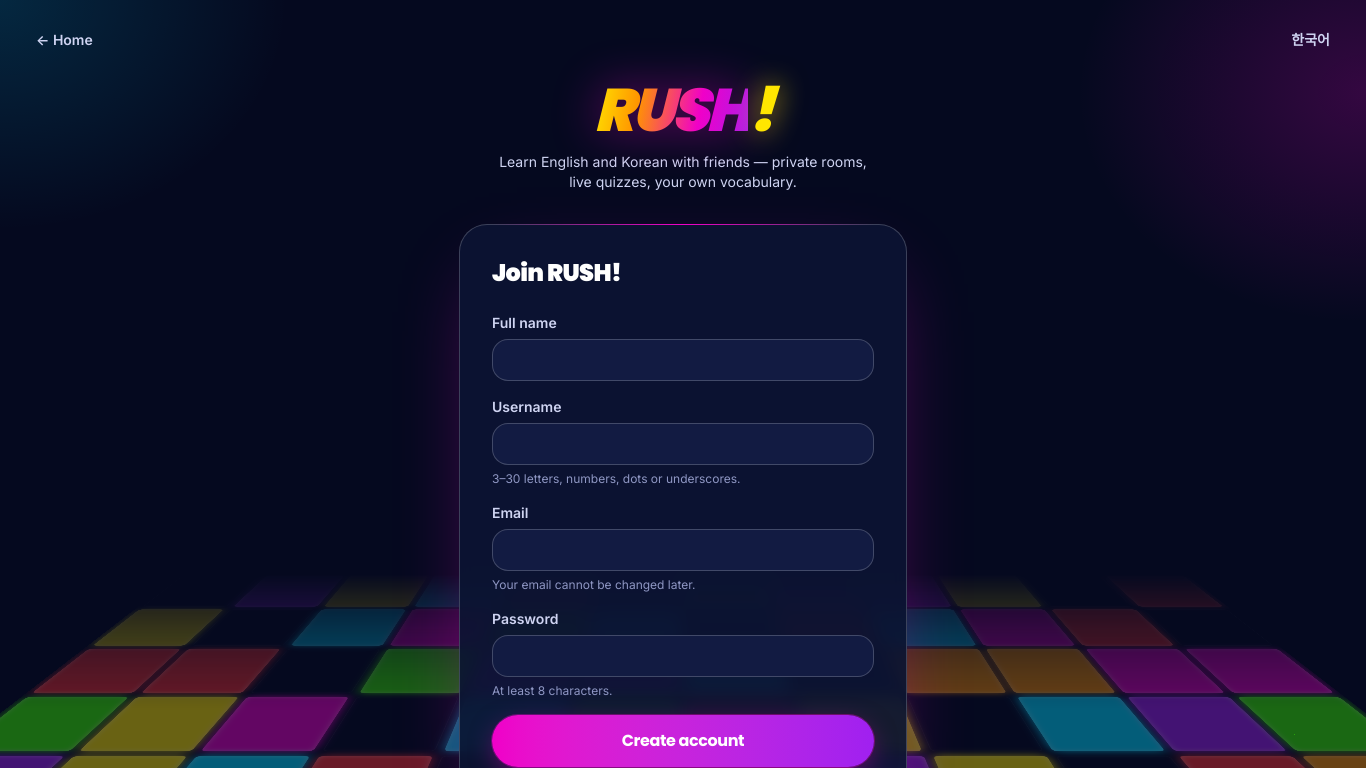
it: RegisterPage › shows the server error for a taken username
In the field labelled "Full name": point(683, 360) [492,339,874,381], type "Ana Kim"
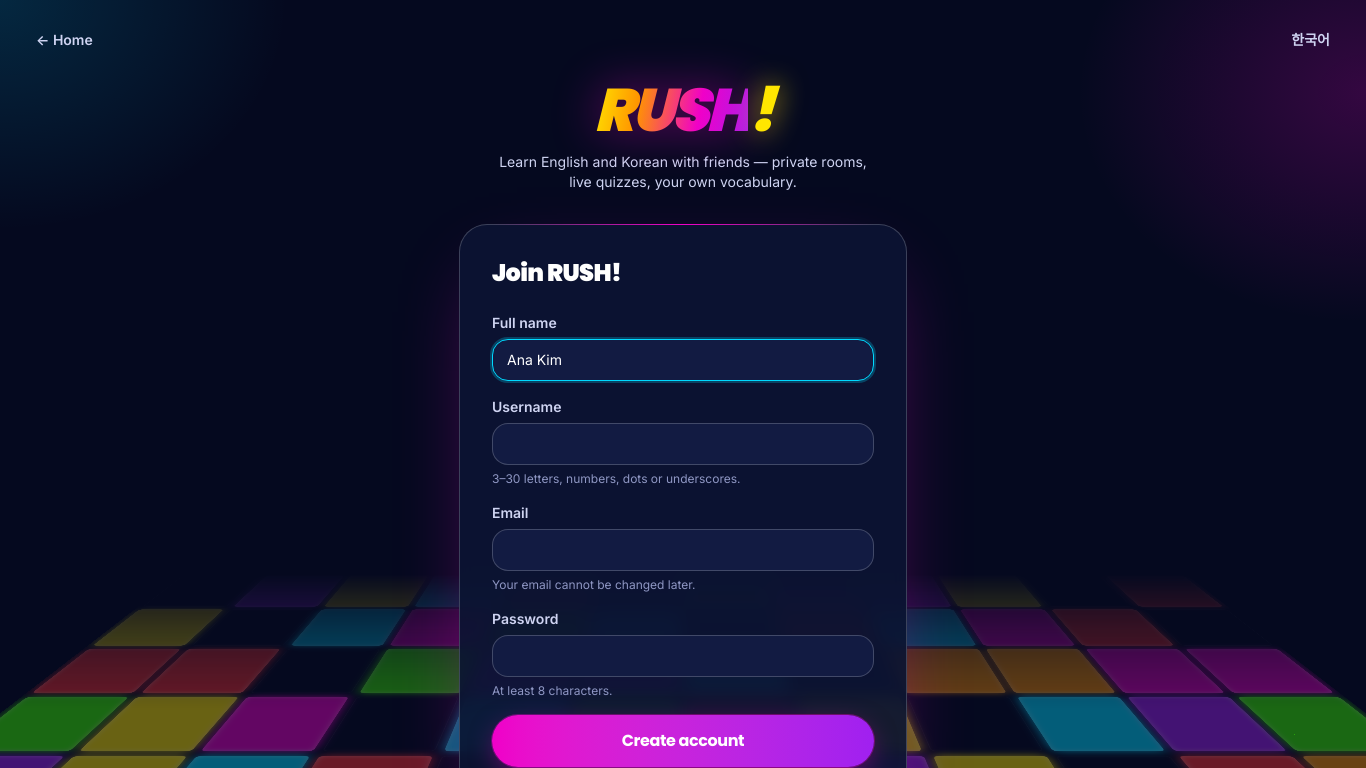
In the field labelled "Username": point(683, 444) [492,423,874,465], type "ana"
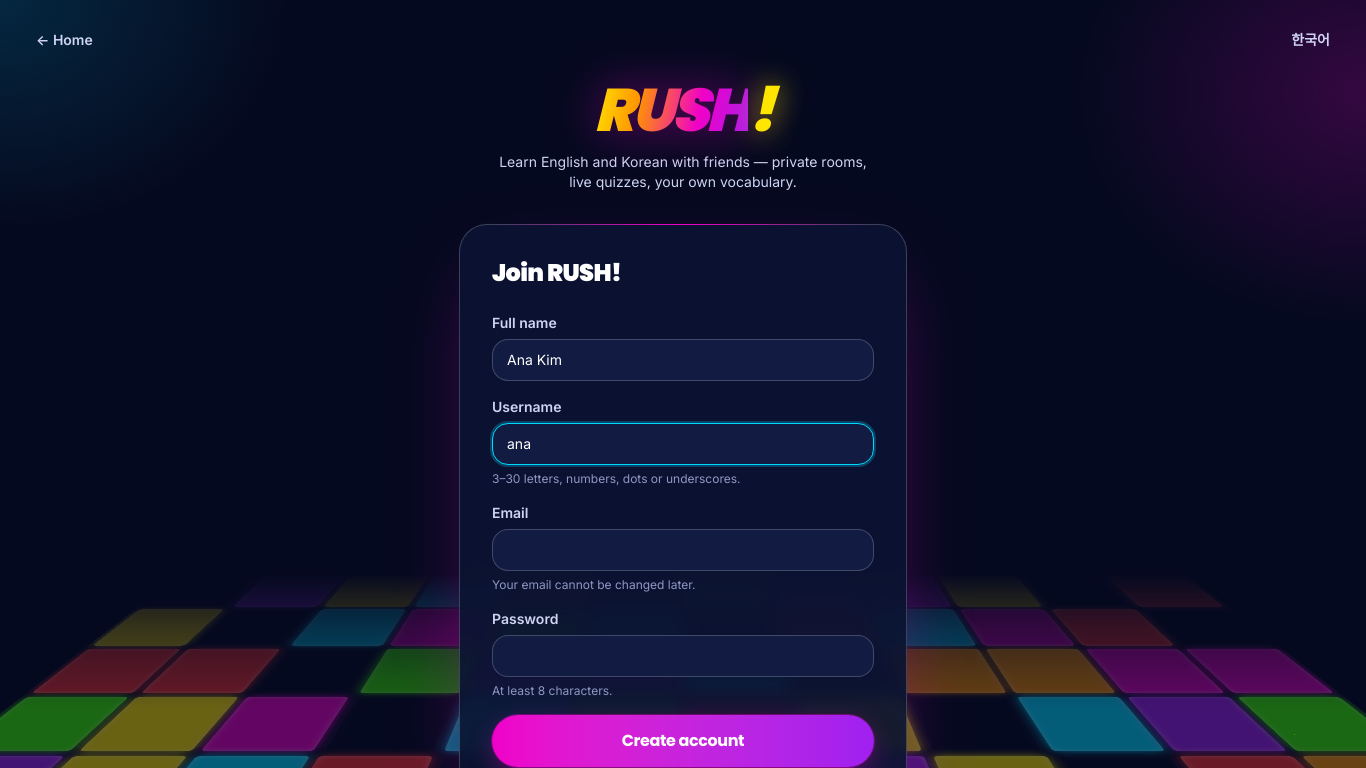
In the field labelled "Email": point(683, 550) [492,529,874,571], type "ana@example.com"
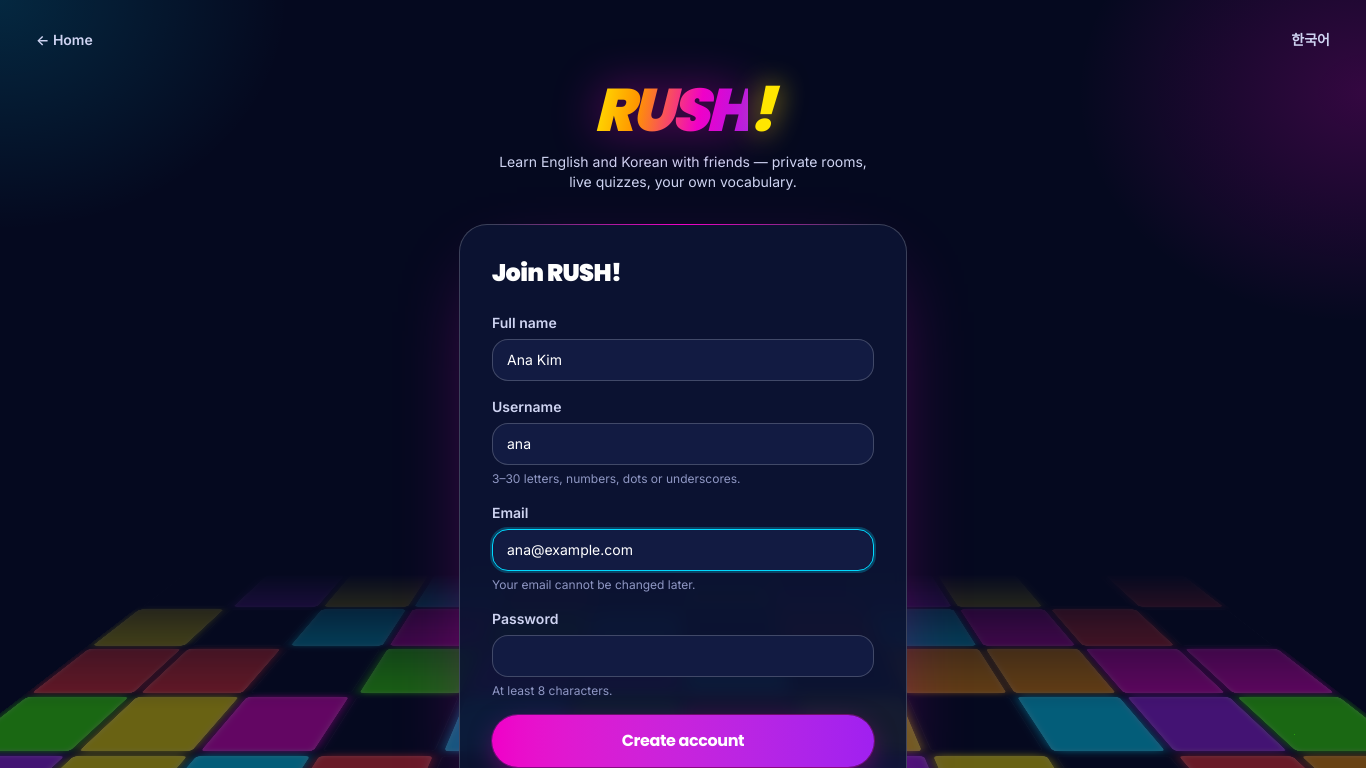
In the password field labelled "Password": point(683, 656) [492,635,874,677], type "long-enough-password"
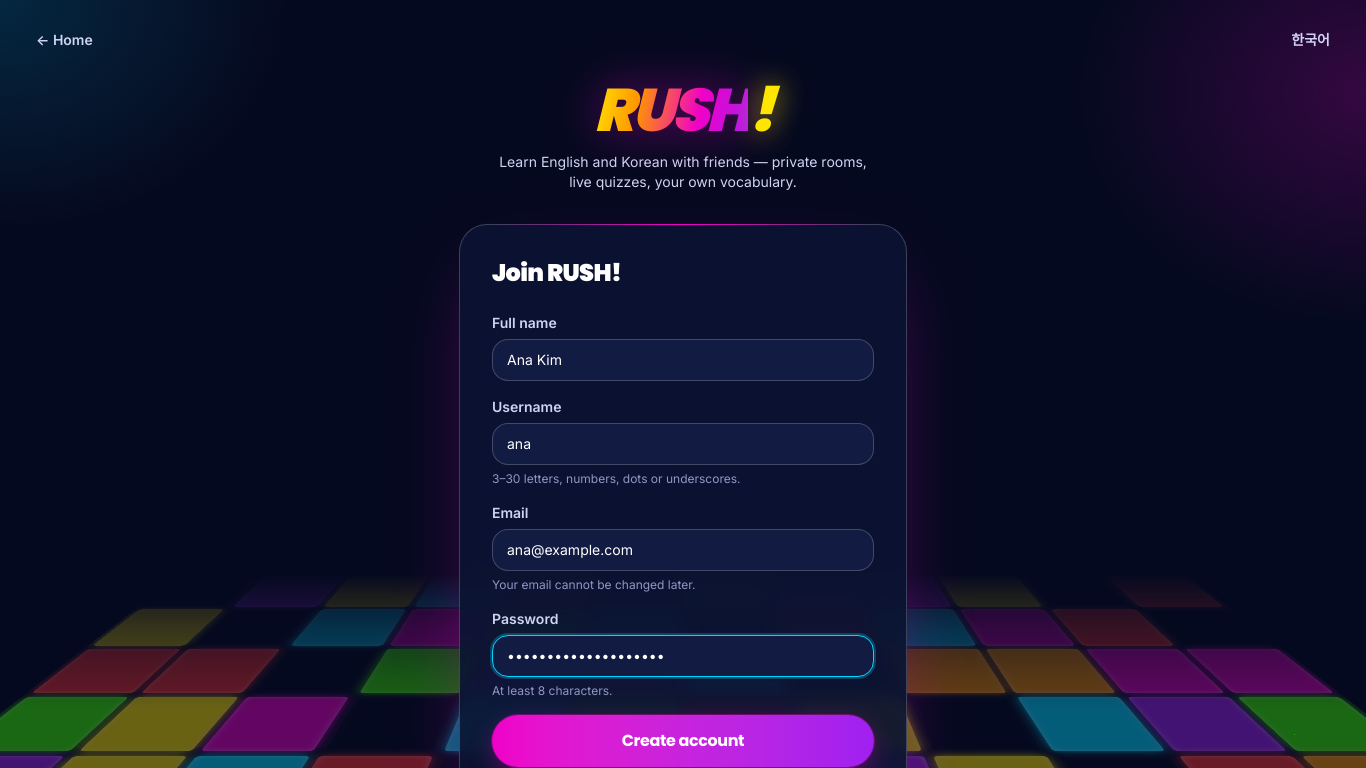
Click the button "Create account": point(683, 741) [492,715,874,767]
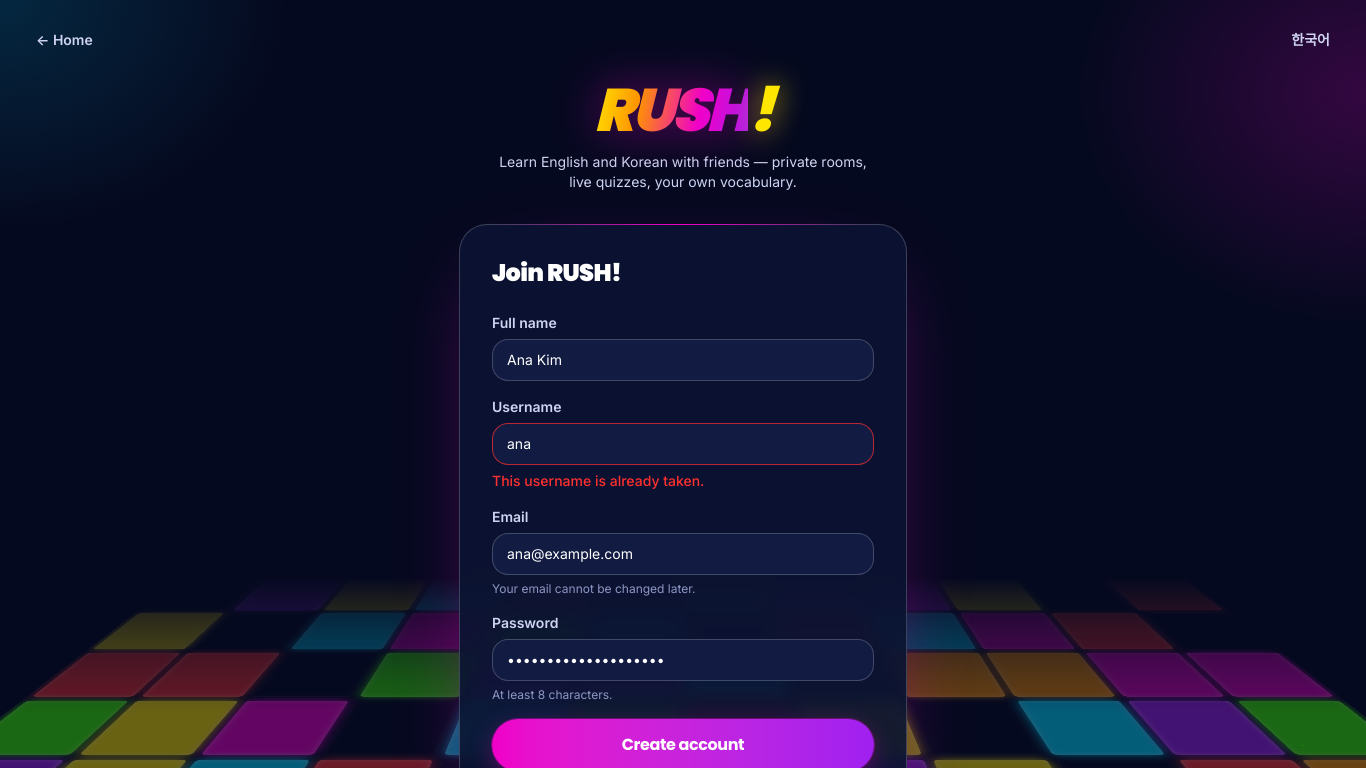
Now the text "This username is already taken." is shown, box [492,472,704,489]
